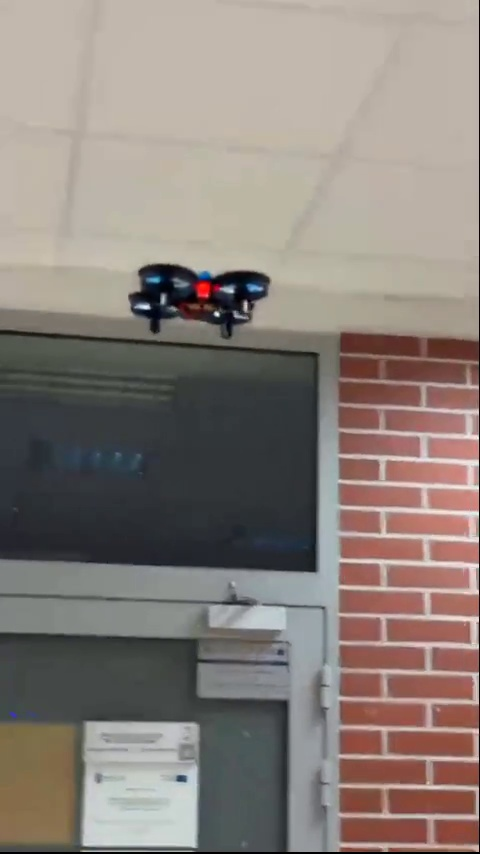drone: (131, 267, 274, 340)
